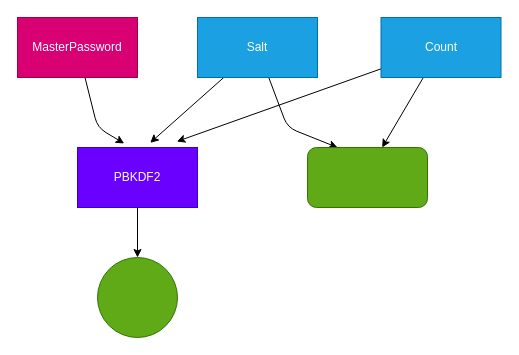
Some shapes in this 519 by 355 pixel diagram are drawn without their labels. The box of each missing label's shape, as (x1, y1, x2, y2) in pixels:
Key: (96, 256, 178, 338)
KeyFile: (306, 146, 428, 208)
